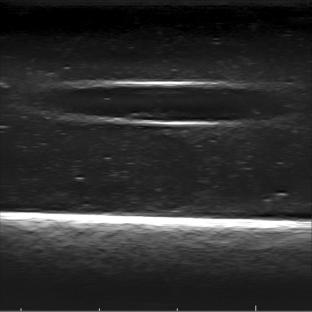vessel: (46, 80, 277, 128)
